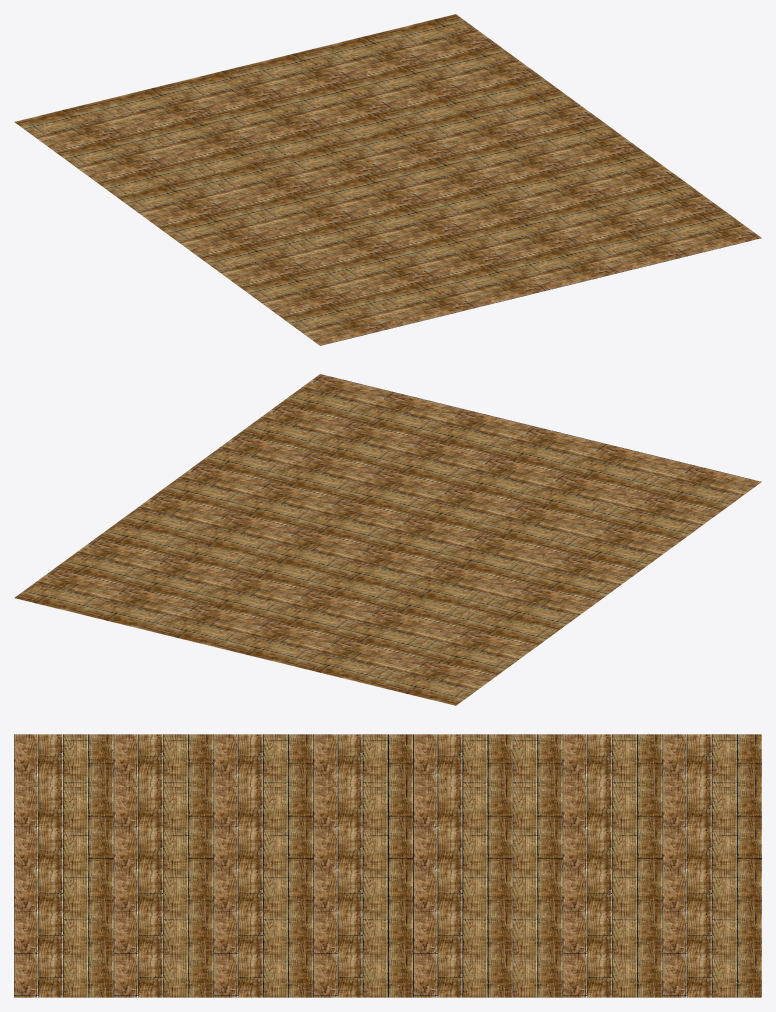
File: LAKETOWN_WAREHOUSE2_PS_WH2_FLOOR04049.fbx
3 views of the same model, one above another, from view 1: azimuth 30°, elevation 25°; view 2: azimuth 150°, elevation 25°; view 3: azimuth 270°, elevation 25° (orthographic). The views are drawn at different scales.
Parts seen in each view (by area): view 1: LAKETOWN_WAREHOUSE2_PS_WH2_FLOOR04049; view 2: LAKETOWN_WAREHOUSE2_PS_WH2_FLOOR04049; view 3: LAKETOWN_WAREHOUSE2_PS_WH2_FLOOR04049.
Part boxes in pixels (x1,y1,x2,y2): LAKETOWN_WAREHOUSE2_PS_WH2_FLOOR04049: (14, 14, 761, 345); LAKETOWN_WAREHOUSE2_PS_WH2_FLOOR04049: (14, 374, 761, 705); LAKETOWN_WAREHOUSE2_PS_WH2_FLOOR04049: (14, 734, 761, 997).
Size of the model in its own units: 199032 by 0.0748 by 238839.
1 material, 1 textured.
